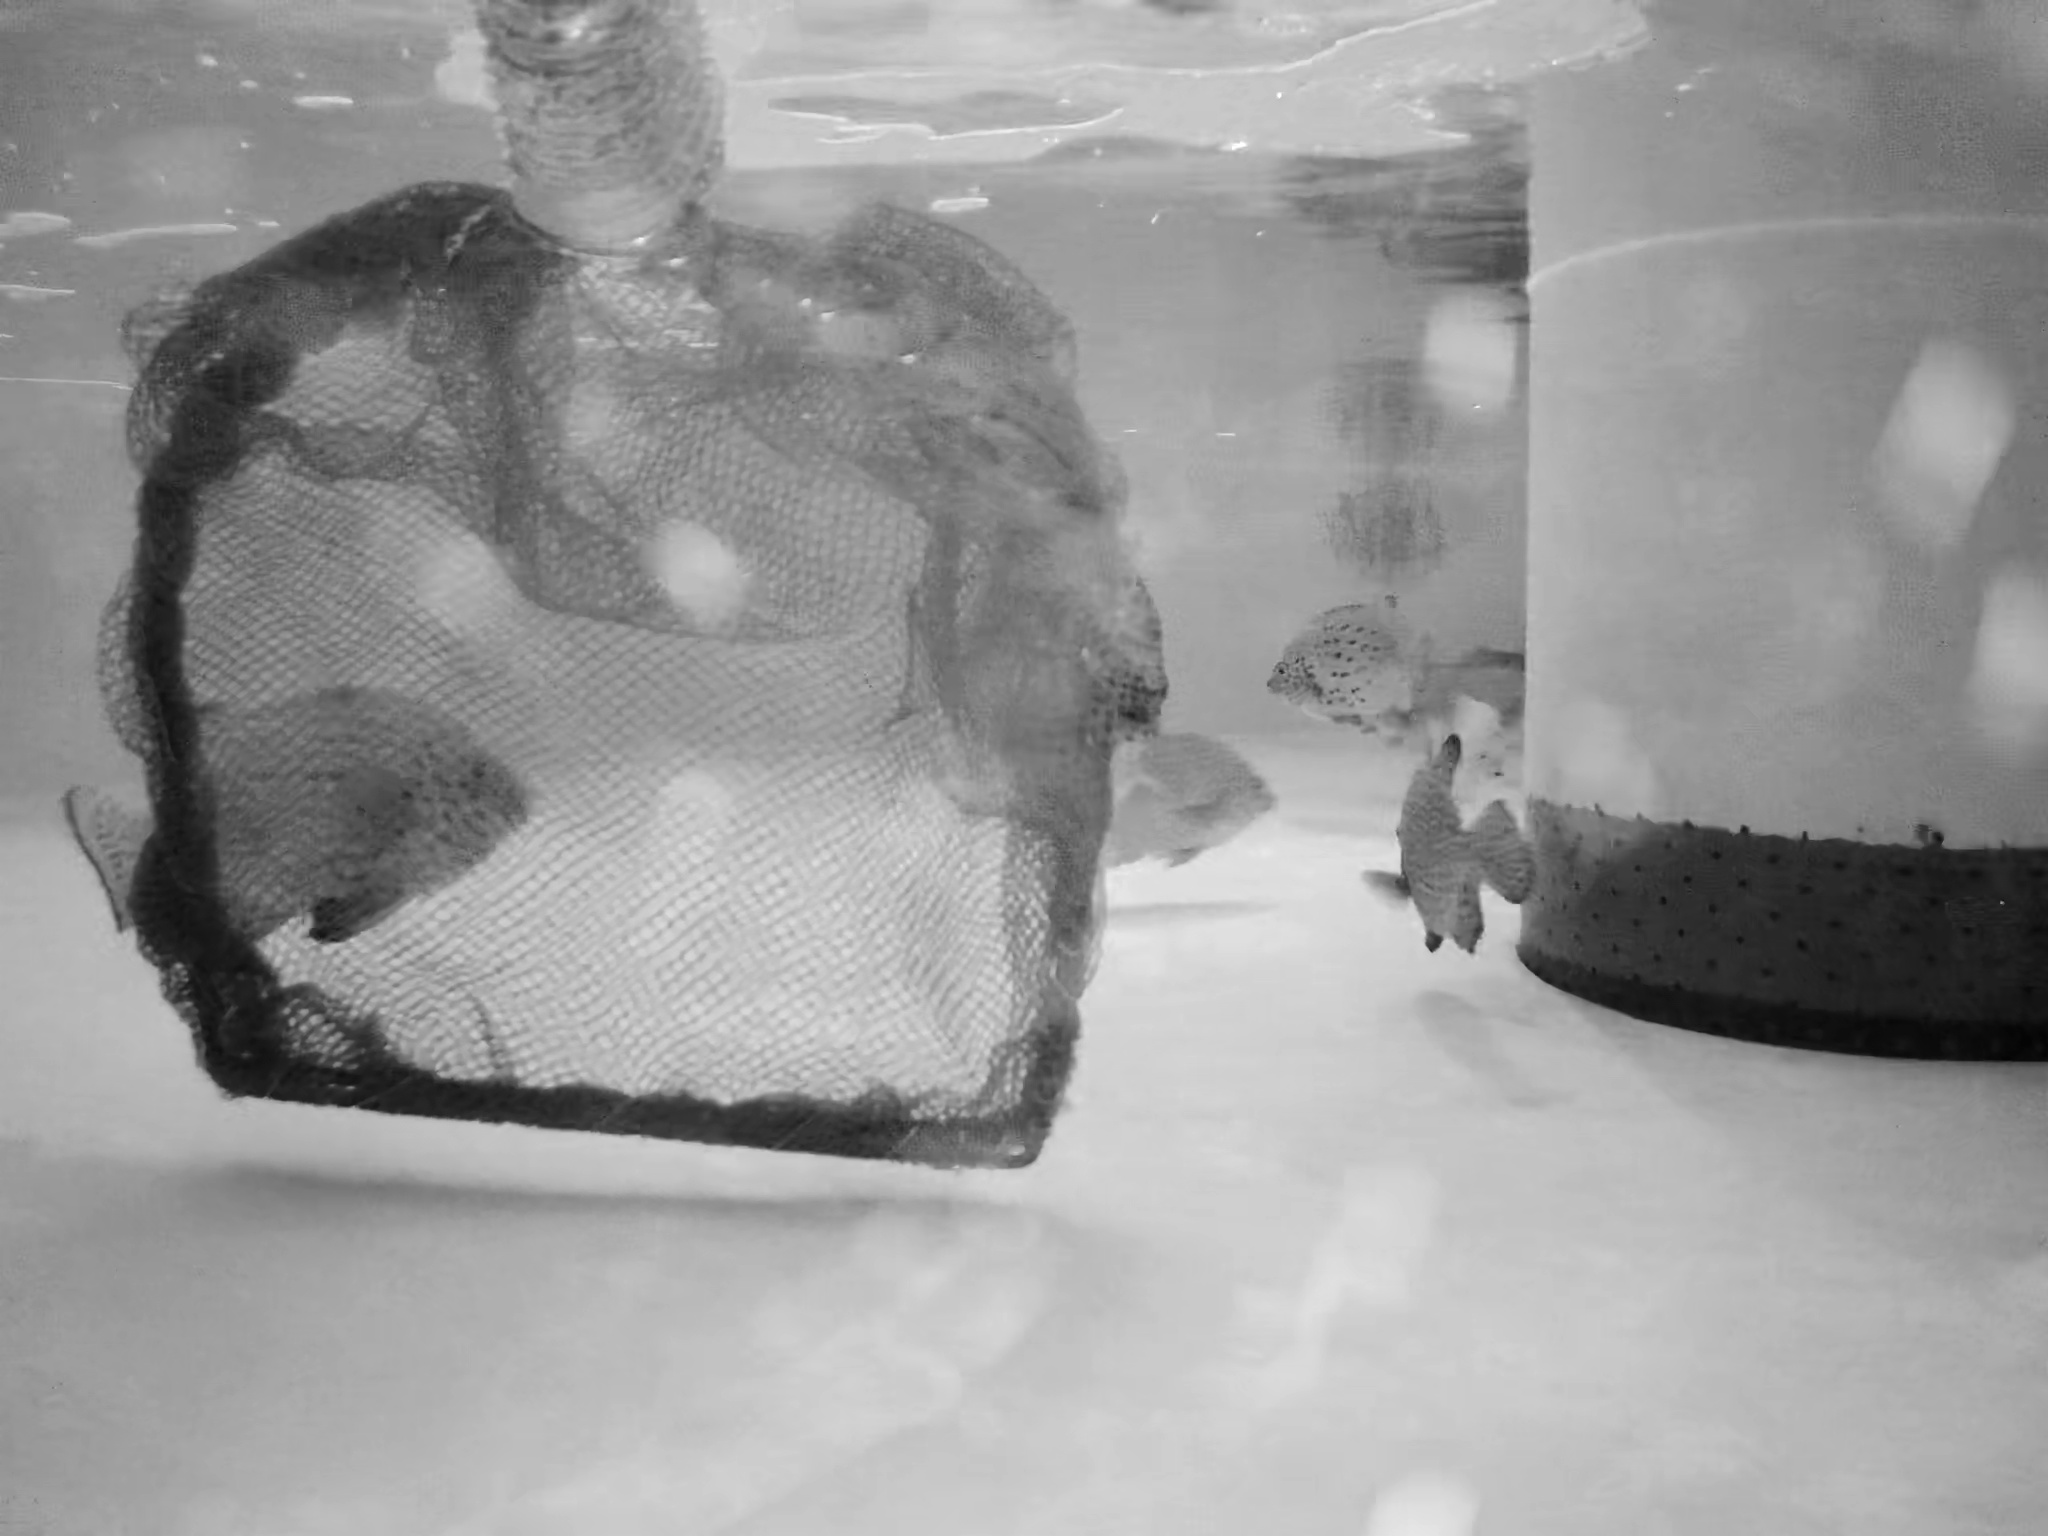fish: (61, 697, 539, 960), (1382, 744, 1540, 954), (1090, 723, 1288, 865), (1261, 591, 1435, 728), (1347, 644, 1522, 733)
